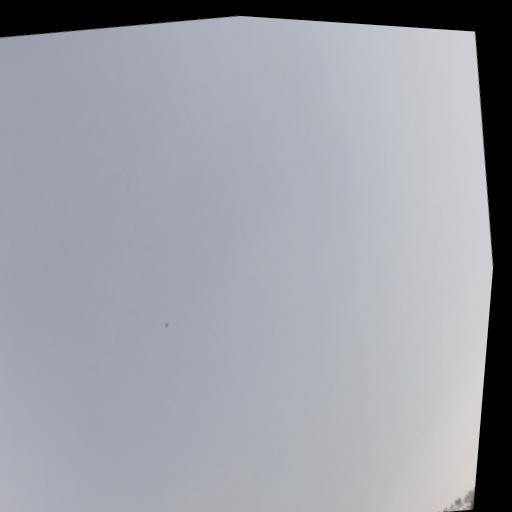drones: (161, 319, 171, 331)
